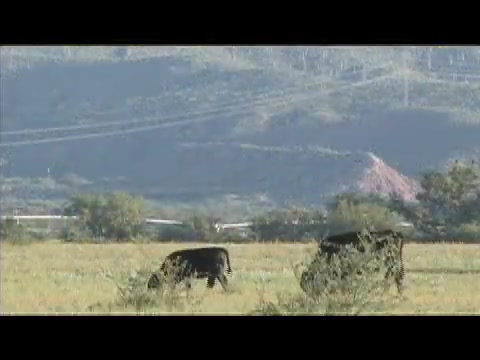cow: (301, 229, 406, 295), (147, 249, 234, 293)
